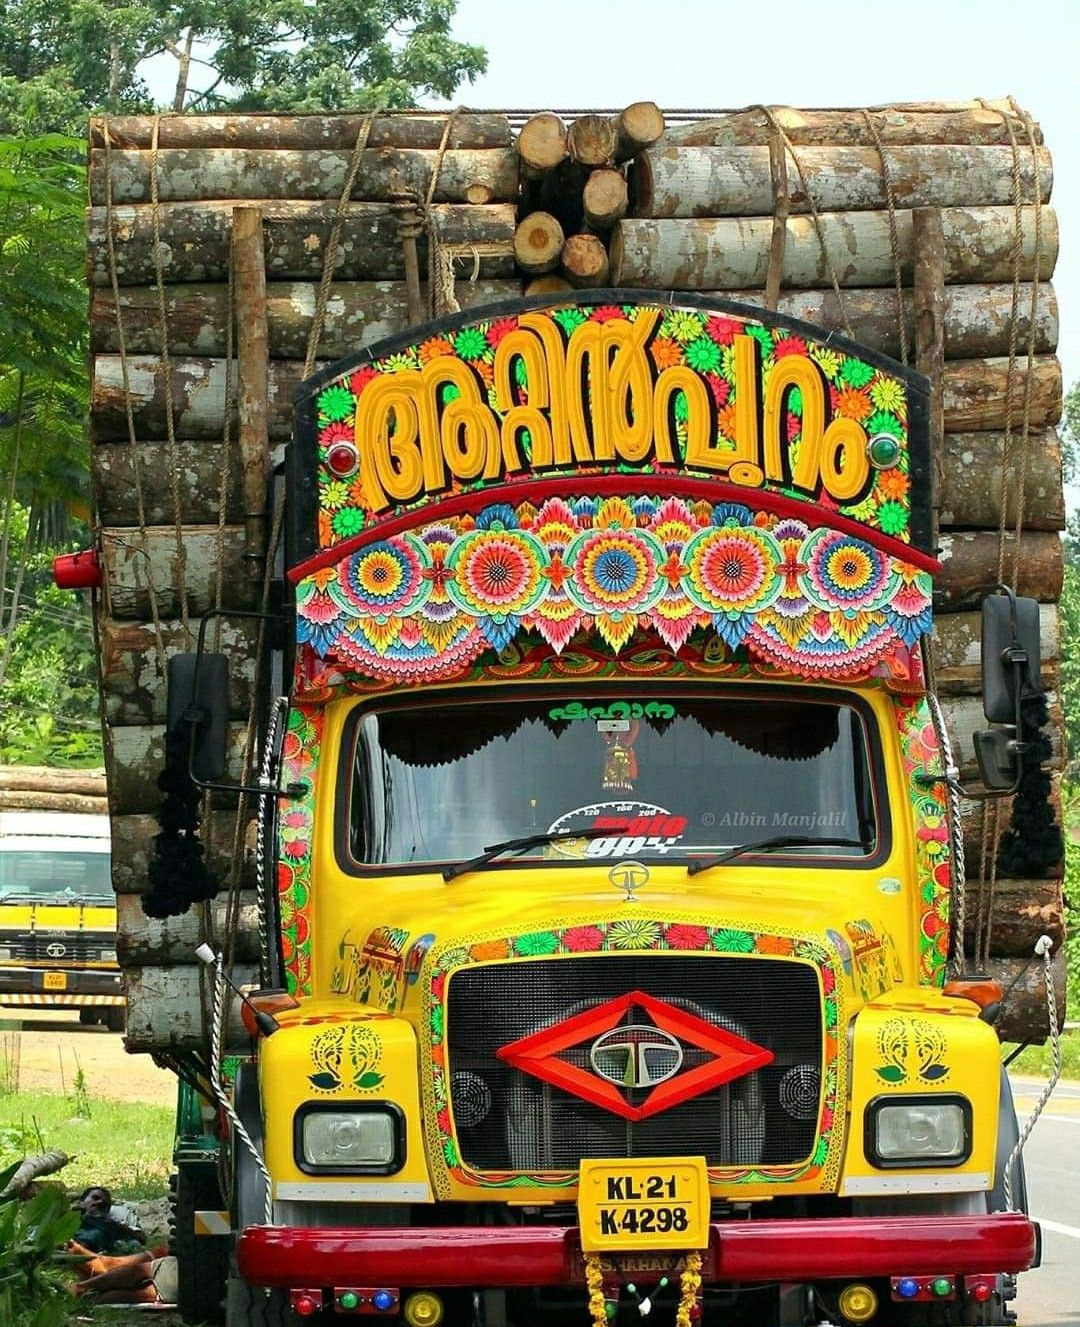lorry: (79, 88, 1080, 1327)
numberplate: (579, 1149, 714, 1257)
